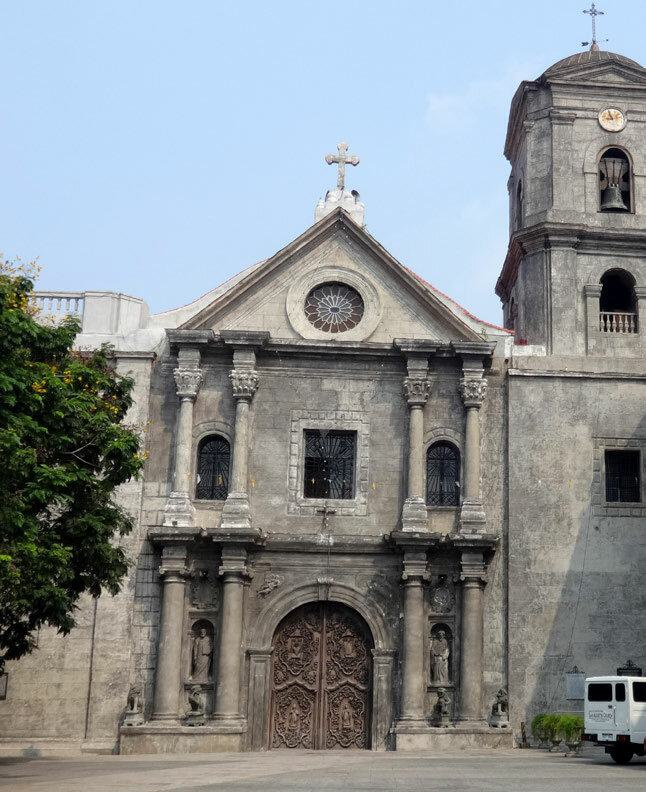san_agustin_church_intramuros_manila: (130, 1, 646, 751)
